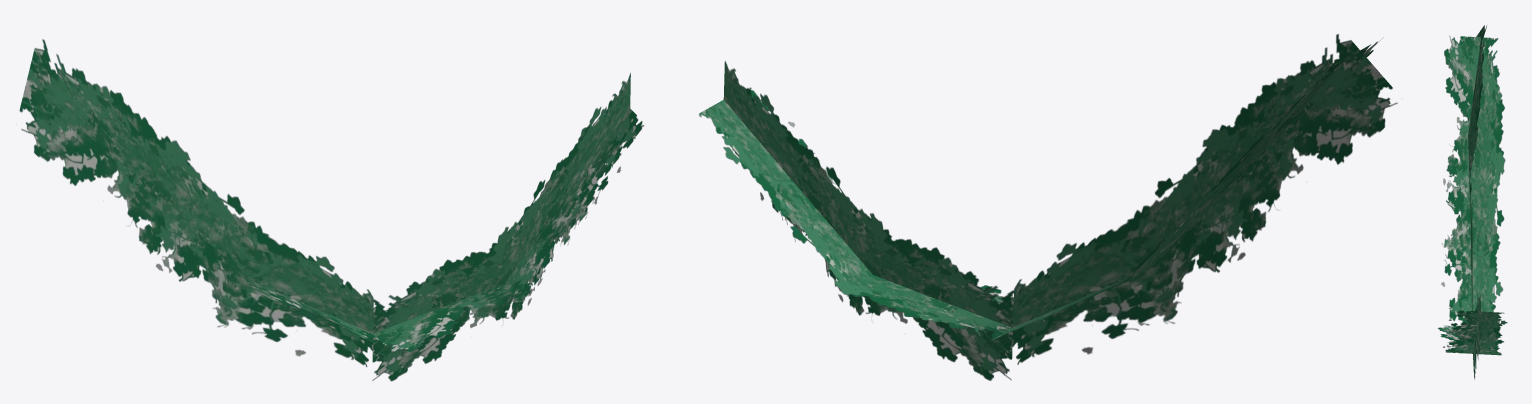
Rendered from wreath04.glb.
3 renders of one model, left to right at view 1: azimuth 30°, elevation 25°; view 2: azimuth 150°, elevation 25°; view 3: azimuth 270°, elevation 25°, orthographic. The views are drawn at different scales.
Visible parts, largest first — view 1: Wreath04; view 2: Wreath04; view 3: Wreath04.
Part boxes in pixels (left/top/right/bottom): Wreath04: left=19, top=39, right=643, bottom=381; Wreath04: left=699, top=34, right=1397, bottom=380; Wreath04: left=1438, top=25, right=1507, bottom=379.
Size of the model in its own units: 2.46 by 1.63 by 0.4702.
1 material, 1 textured.
